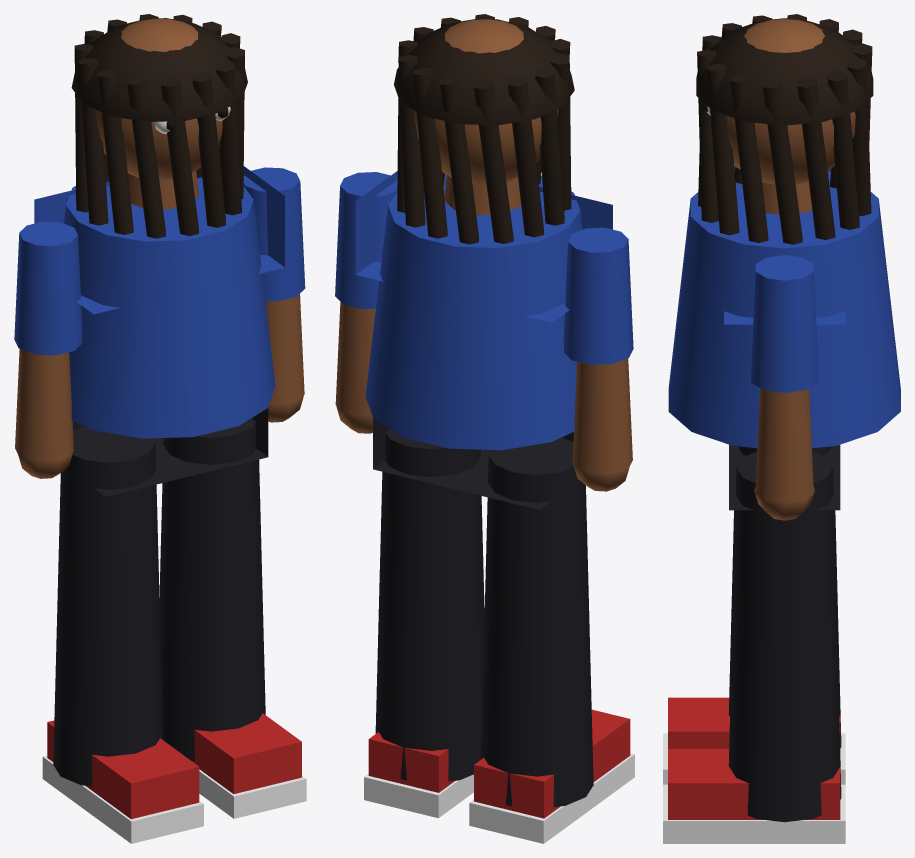
File: npc_basic_02.glb
3 views of the same model, side by side, from view 1: azimuth 30°, elevation 25°; view 2: azimuth 150°, elevation 25°; view 3: azimuth 270°, elevation 25° (orthographic). The views are drawn at different scales.
Visible parts, largest first — view 1: npc_basic_02; view 2: npc_basic_02; view 3: npc_basic_02.
Boxes of the visible parts, <box> form: npc_basic_02: <box>14,14,306,843</box>; npc_basic_02: <box>335,14,634,843</box>; npc_basic_02: <box>663,14,900,843</box>.
Size of the model in its own units: 0.66 by 1.69 by 0.4693.
